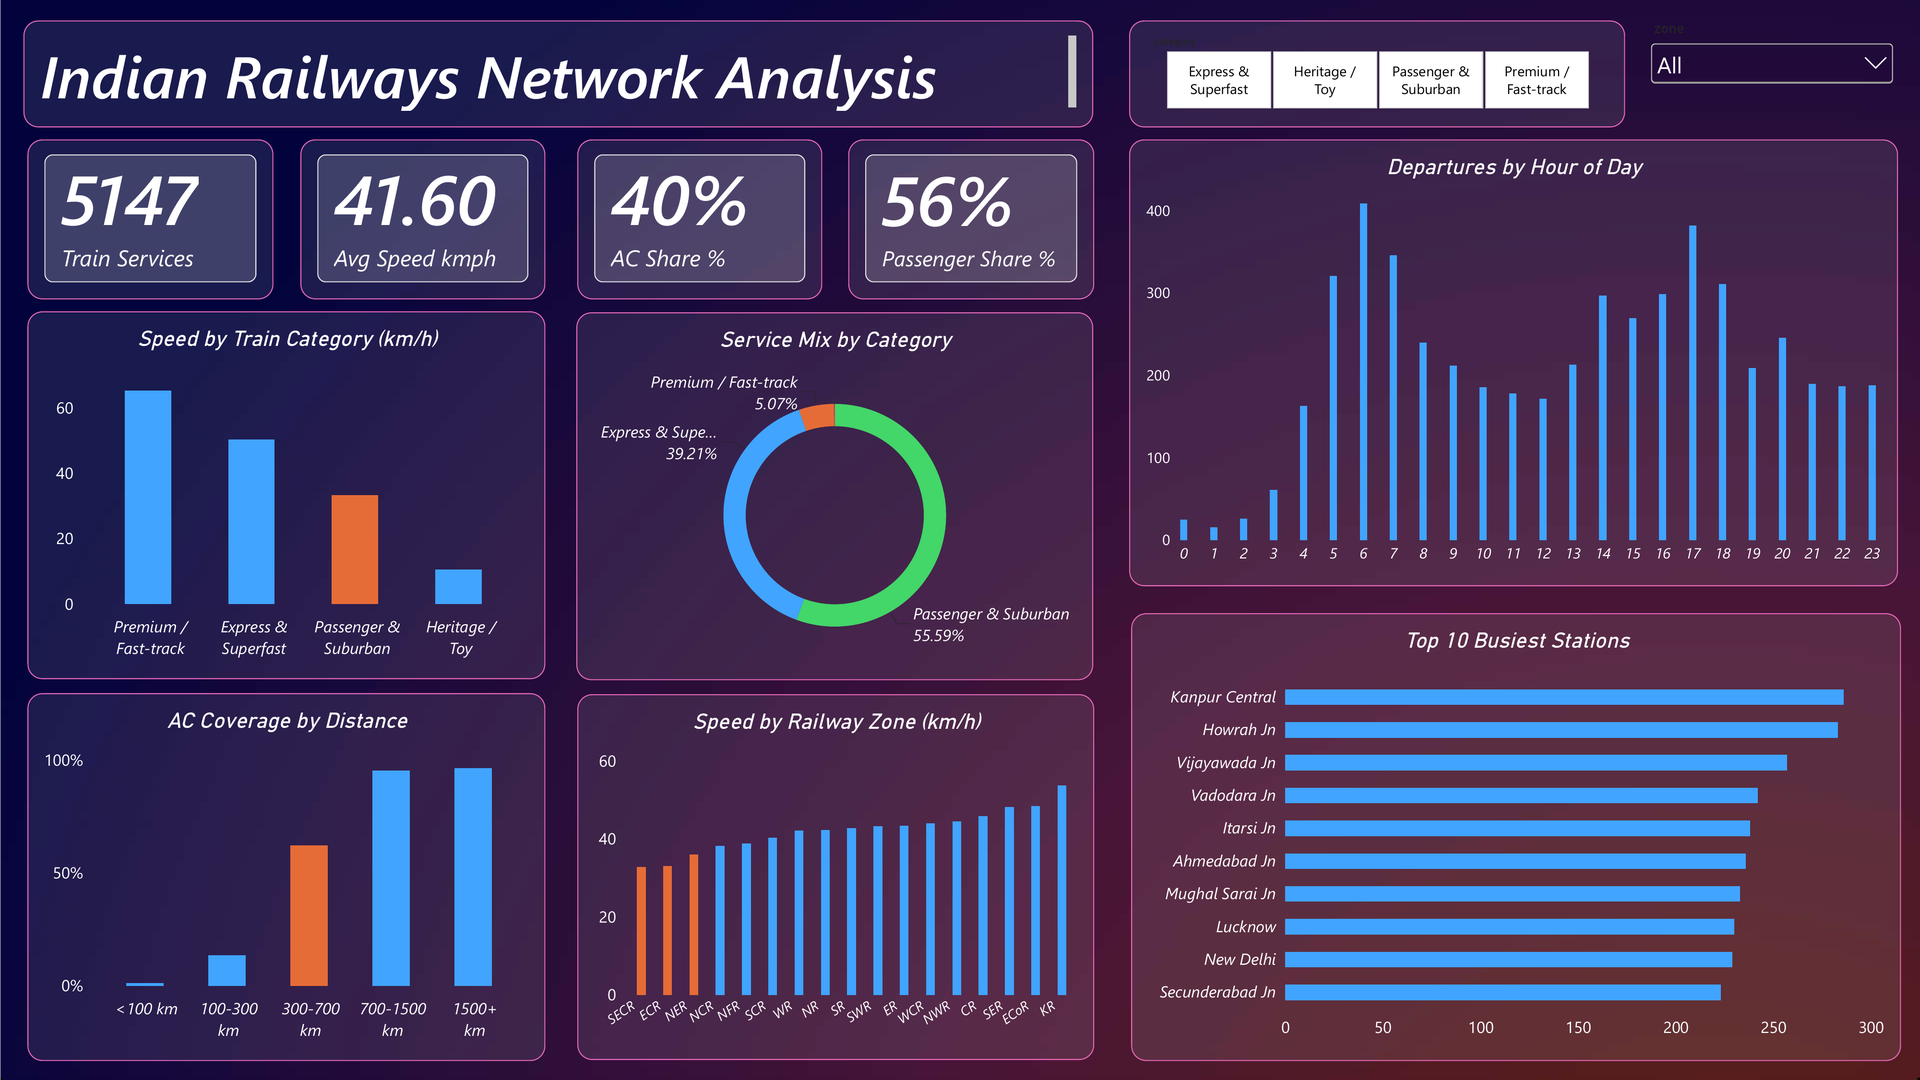

This screenshot's page, from the dashboard's own definition file:
{"tool":"powerbi","page":{"name":"Page 5","canvas":[1920,1080],"ordinal":0},"visuals":[{"type":"textbox","box":[23.2,19.6,1069.6,107.1],"z":0},{"type":"cardVisual","fields":{"Data":["trains_clean.Passenger Share %"]},"box":[848.1,139,245.5,159.7],"z":1000},{"type":"clusteredColumnChart","title":"Speed by Railway Zone (km/h)","fields":{"Category":["trains_clean.zone"],"Y":["trains_clean.Avg Speed kmph"]},"box":[577.1,693.8,516.7,366.7],"z":2000},{"type":"donutChart","title":"Service Mix by Category","fields":{"Category":["trains_clean.category"],"Y":["trains_clean.Train Services"]},"box":[576.3,311.9,516.9,367.8],"z":3000},{"type":"clusteredBarChart","title":"Top 10 Busiest Stations","fields":{"Category":["station_traffic.station_name"],"Y":["Sum(station_traffic.trains_halting)"]},"box":[1131.2,612.5,769.6,448.2],"z":4000},{"type":"clusteredColumnChart","title":"Departures by Hour of Day","fields":{"Category":["trains_clean.dep_hour"],"Y":["trains_clean.Train Services"]},"box":[1128.8,139,769.5,447.5],"z":5000},{"type":"cardVisual","fields":{"Data":["trains_clean.Train Services"]},"box":[27.3,139,245.5,159.7],"z":6000},{"type":"cardVisual","fields":{"Data":["trains_clean.Avg Speed kmph"]},"box":[300,139,245.5,159.7],"z":7000},{"type":"cardVisual","fields":{"Data":["trains_clean.AC Share %"]},"box":[576.6,139,245.5,159.7],"z":8000},{"type":"clusteredColumnChart","title":"Speed by Train Category (km/h)","fields":{"Category":["trains_clean.category"],"Y":["trains_clean.Avg Speed kmph"]},"box":[26.8,310.7,517.9,367.9],"z":9000},{"type":"clusteredColumnChart","title":"AC Coverage by Distance","fields":{"Category":["trains_clean.band"],"Y":["trains_clean.AC Share %"]},"box":[26.8,692.9,517.9,367.9],"z":10000},{"type":"slicer","fields":{"Values":["trains_clean.category"]},"box":[1128.6,19.6,496.4,107.1],"z":11000},{"type":"slicer","fields":{"Values":["trains_clean.zone"]},"box":[1646.4,19.6,251.8,107.1],"z":12000}]}

Visuals, with their boxes in screenshot pixels (x1, y1, x2, y2), scaled from the page's 1920x1080 canvas onto the 1920x1080 screenshot:
textbox: 23/20/1093/127
cardVisual - trains_clean.Passenger Share %: 848/139/1094/299
"Speed by Railway Zone (km/h)" clusteredColumnChart: 577/694/1094/1060
"Service Mix by Category" donutChart: 576/312/1093/680
"Top 10 Busiest Stations" clusteredBarChart: 1131/612/1901/1061
"Departures by Hour of Day" clusteredColumnChart: 1129/139/1898/586
cardVisual - trains_clean.Train Services: 27/139/273/299
cardVisual - trains_clean.Avg Speed kmph: 300/139/546/299
cardVisual - trains_clean.AC Share %: 577/139/822/299
"Speed by Train Category (km/h)" clusteredColumnChart: 27/311/545/679
"AC Coverage by Distance" clusteredColumnChart: 27/693/545/1061
slicer - trains_clean.category: 1129/20/1625/127
slicer - trains_clean.zone: 1646/20/1898/127
